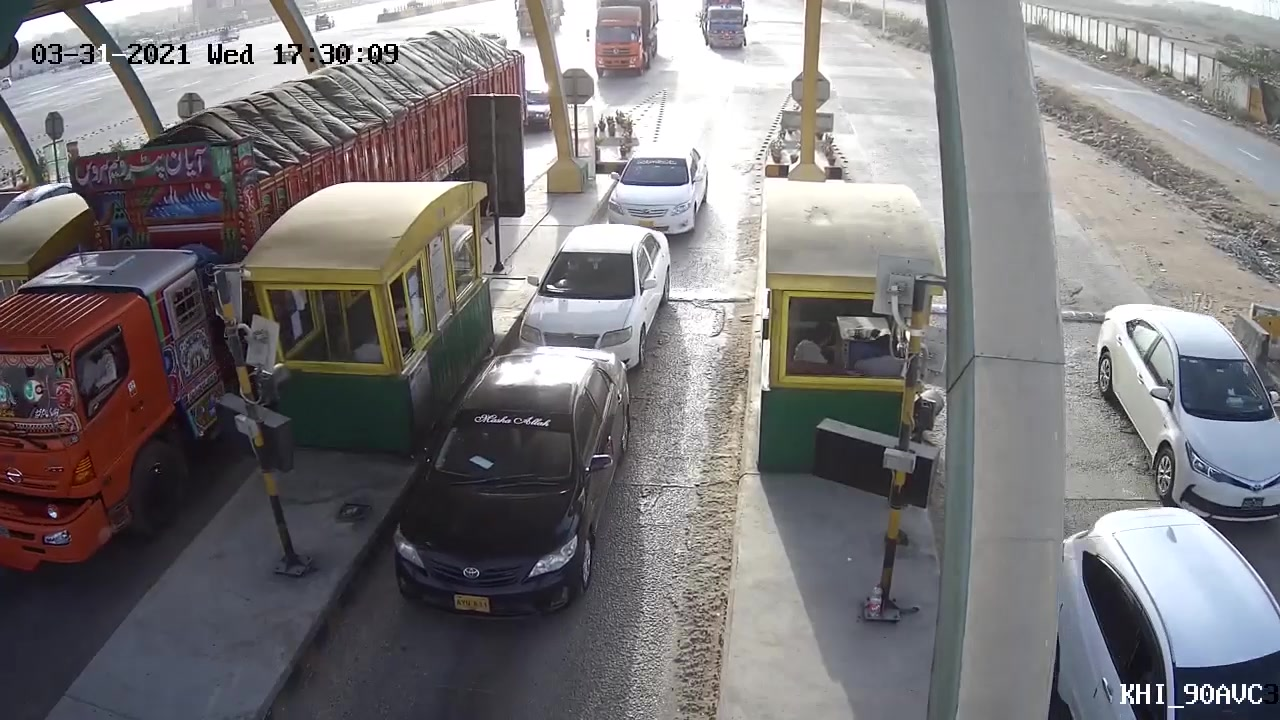F1: (377, 347, 635, 634), (511, 217, 680, 364)
